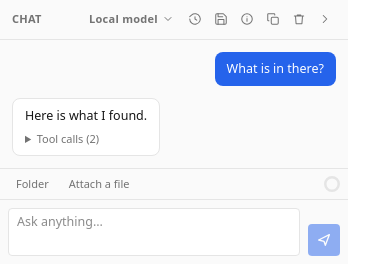
Test: the saved conversations list, rendered › opens wholly inside the panel
The image size is (365, 273).
Click the button named "Saved conversations": (195, 19) [184,8,206,30]
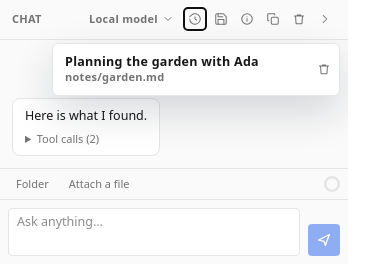
Check: the text "Planning the garden with Ada" is shown, box [57,48,309,91]
